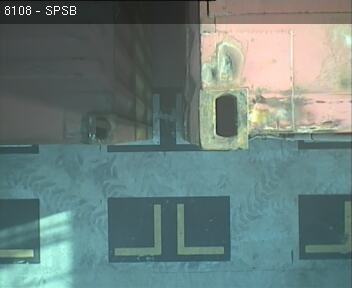groundmarker_1: (114, 204, 223, 256), (120, 92, 192, 146)
